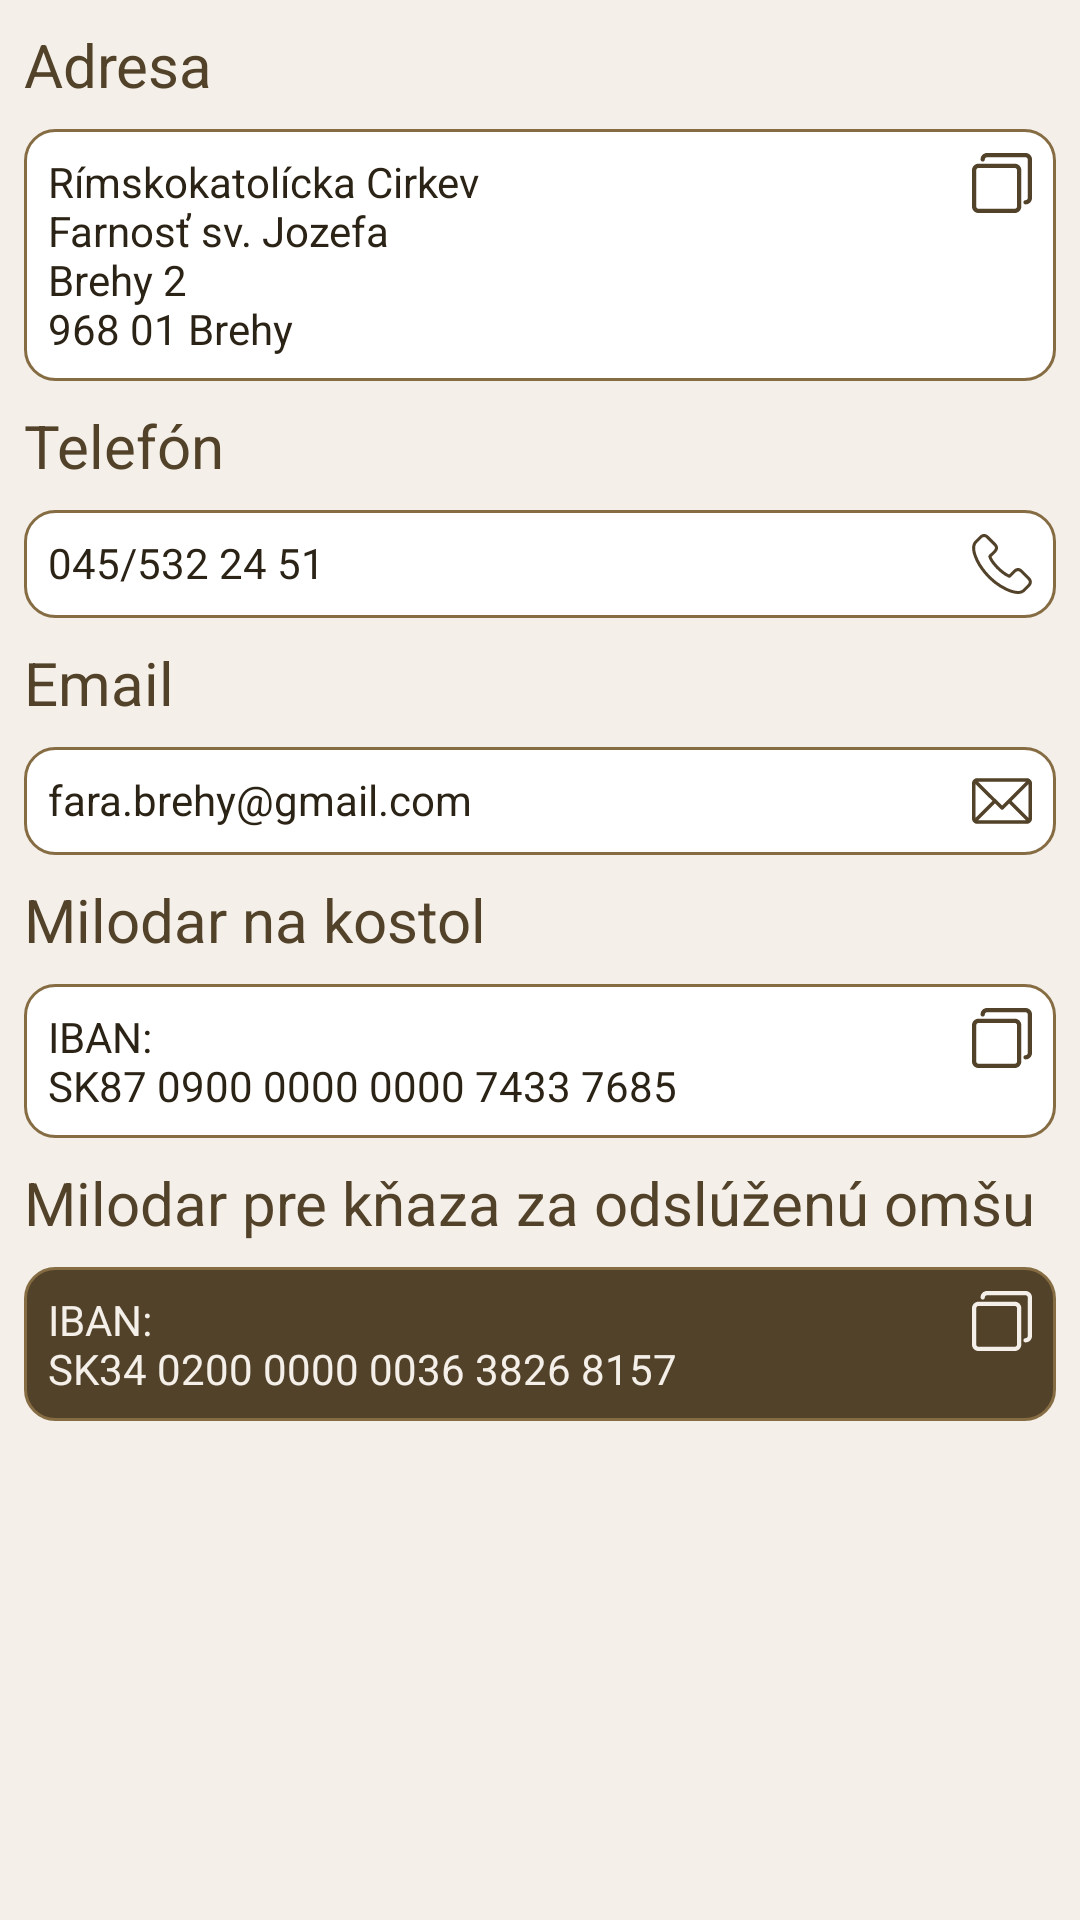

Point at icon controls on the screen. Image size 1080 × 1920, points as (x=x, y=y).
call: (x=1002, y=564)
